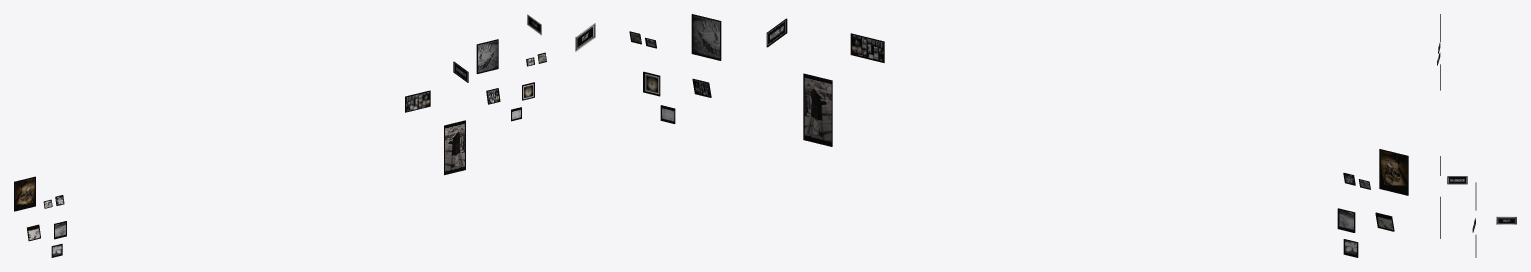
Rendered from Photos_01.FBX.
3 renders of one model, left to right at view 1: azimuth 30°, elevation 25°; view 2: azimuth 150°, elevation 25°; view 3: azimuth 270°, elevation 25°, orthographic. The views are drawn at different scales.
Parts seen in each view (by area): view 1: Object070; view 2: Object070; view 3: Object070.
Part boxes in pixels (x1,y1,x2,y2): Object070: (14,14,546,257); Object070: (575,14,1408,257); Object070: (1437,14,1516,257).
Bounding box in the file's own units: 276 × 45.58 × 47.54.
3 materials, 3 textured.
